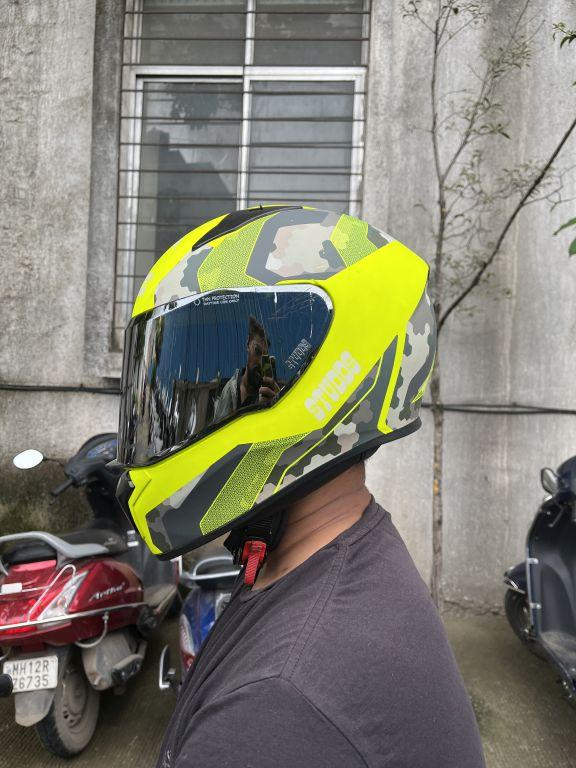helmet: (109, 184, 441, 567)
